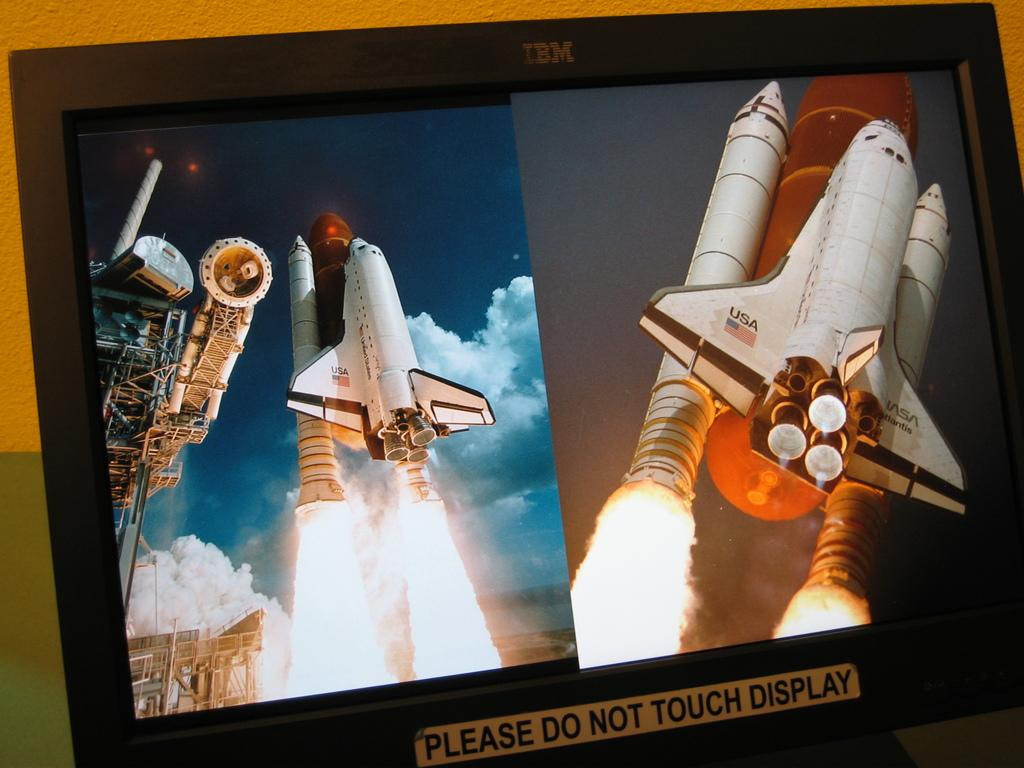Missile: (616, 68, 966, 624), (298, 212, 497, 521)
